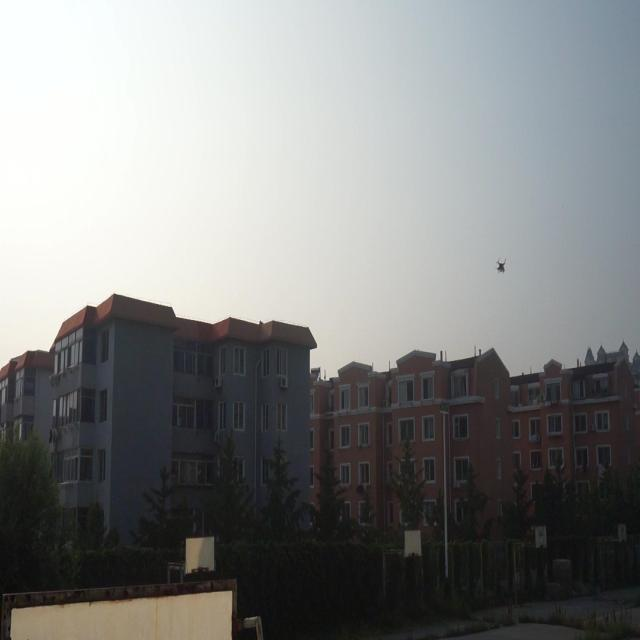drone: (495, 256, 507, 278)
